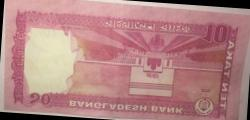10 taka: (6, 2, 239, 120)
